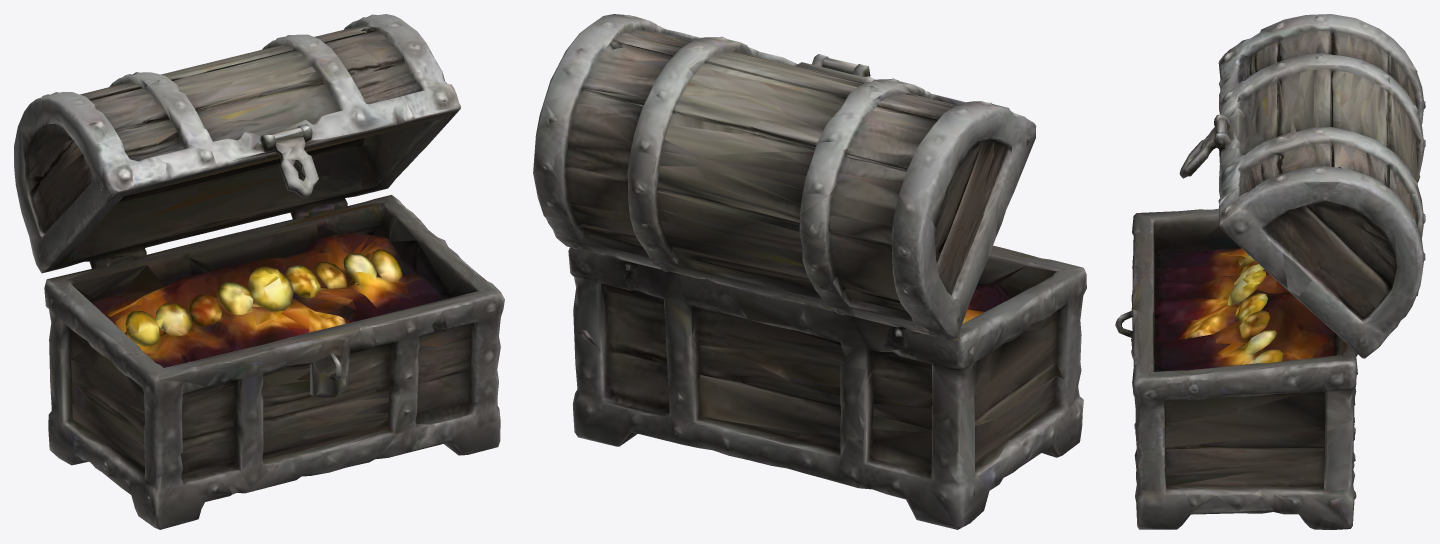
The model's file is item_sandik2.glb.
The picture shows the model from 3 angles, left to right: view 1: azimuth 30°, elevation 25°; view 2: azimuth 150°, elevation 25°; view 3: azimuth 270°, elevation 25°; orthographic projection. The views are drawn at different scales.
Visible parts, largest first — view 1: tripo_node_f8da74ee-6685-4071-aeae-2b9c84fb2ffe; view 2: tripo_node_f8da74ee-6685-4071-aeae-2b9c84fb2ffe; view 3: tripo_node_f8da74ee-6685-4071-aeae-2b9c84fb2ffe.
Boxes of the visible parts, box(x1,y1,x2,y2) form: tripo_node_f8da74ee-6685-4071-aeae-2b9c84fb2ffe: box(14, 14, 504, 529); tripo_node_f8da74ee-6685-4071-aeae-2b9c84fb2ffe: box(533, 14, 1086, 529); tripo_node_f8da74ee-6685-4071-aeae-2b9c84fb2ffe: box(1115, 14, 1425, 529).
Bounding box in the file's own units: 0.9815 × 0.9567 × 0.7583.
Materials: 1 (1 with a texture image).
